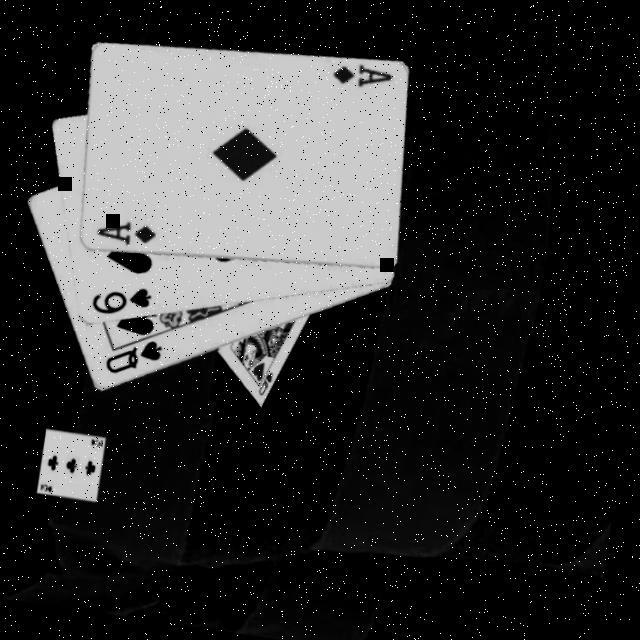6S: (84, 279, 154, 326)
AD: (91, 216, 158, 253), (326, 59, 393, 96)
QS: (99, 333, 165, 385)
